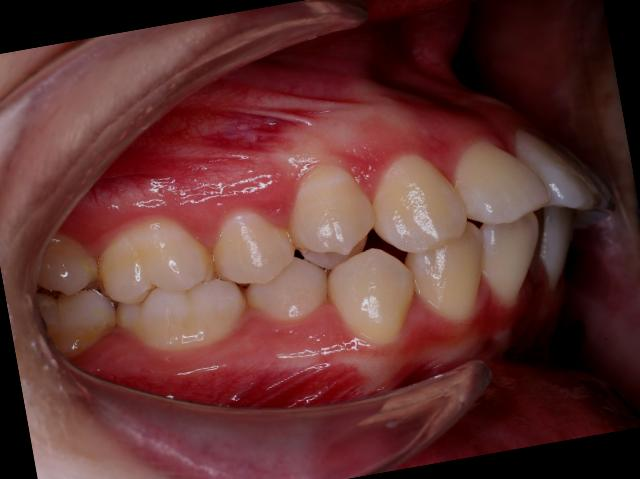canine class II 1/2: (306, 131, 499, 362)
molar class I: (86, 200, 256, 372)
